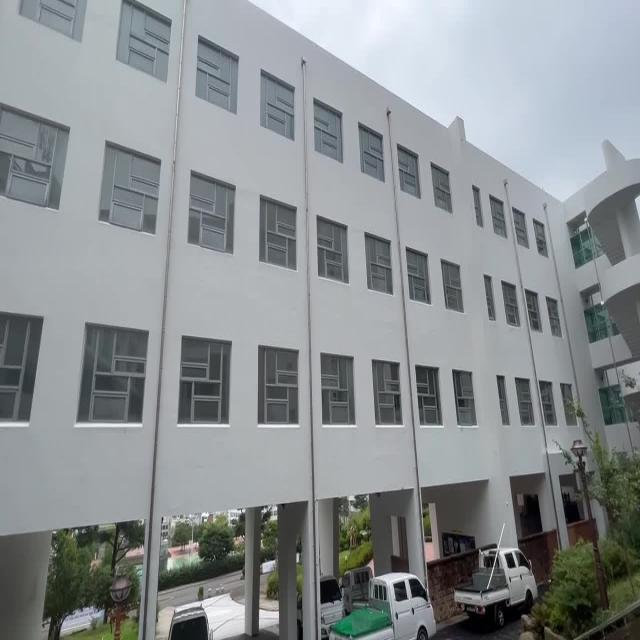building: (0, 21, 579, 473)
